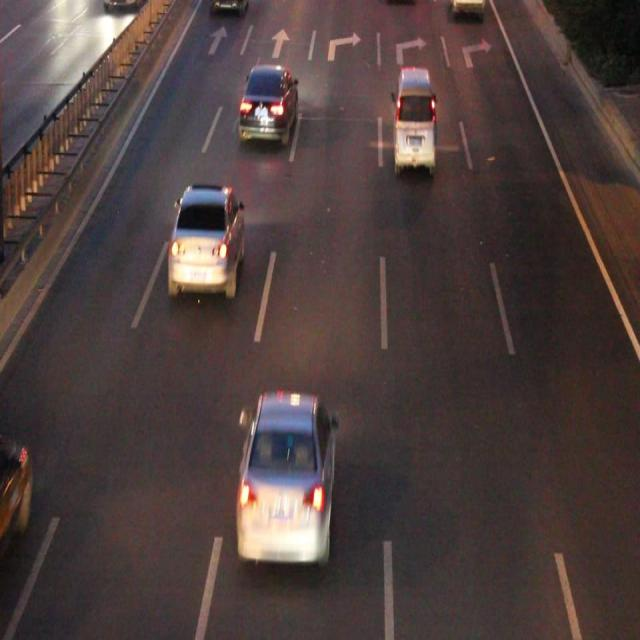car: (239, 395, 331, 559), (169, 188, 242, 288), (239, 67, 296, 138), (1, 437, 30, 575), (209, 1, 246, 13)
truck: (393, 69, 435, 169), (449, 1, 482, 13)
